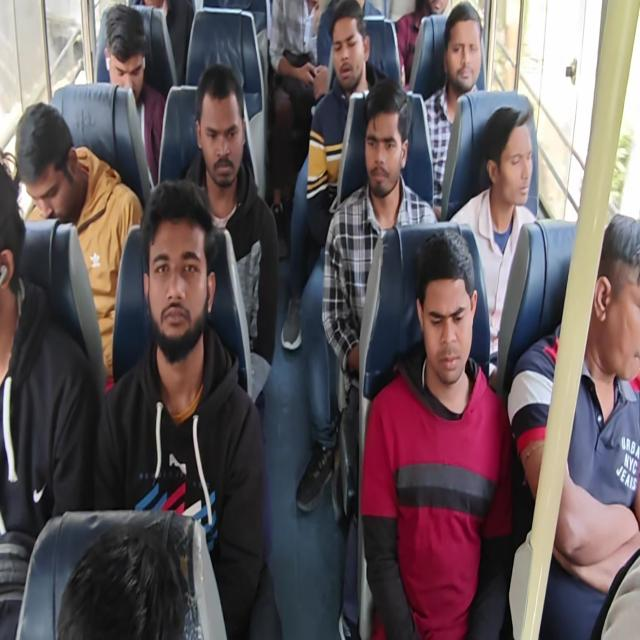person: (63, 493, 174, 640), (142, 202, 218, 346), (408, 246, 480, 373), (589, 224, 640, 373), (469, 121, 547, 217), (23, 121, 87, 220), (0, 135, 26, 368), (358, 95, 410, 206), (194, 96, 243, 193), (448, 6, 483, 100), (102, 12, 139, 96), (324, 18, 365, 78), (412, 0, 457, 16)
